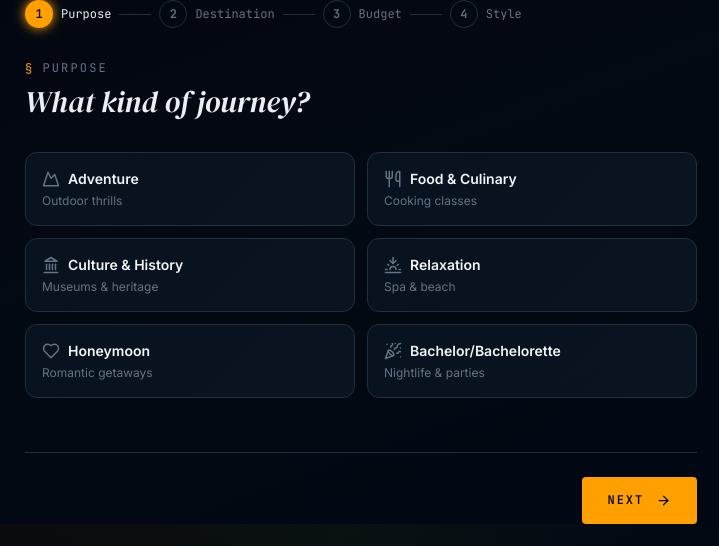
PlanWizard › shows validation errors on step 2 when fields are empty
Click the button "Adventure Outdoor thrills" at (103, 178), box [25, 152, 355, 226]
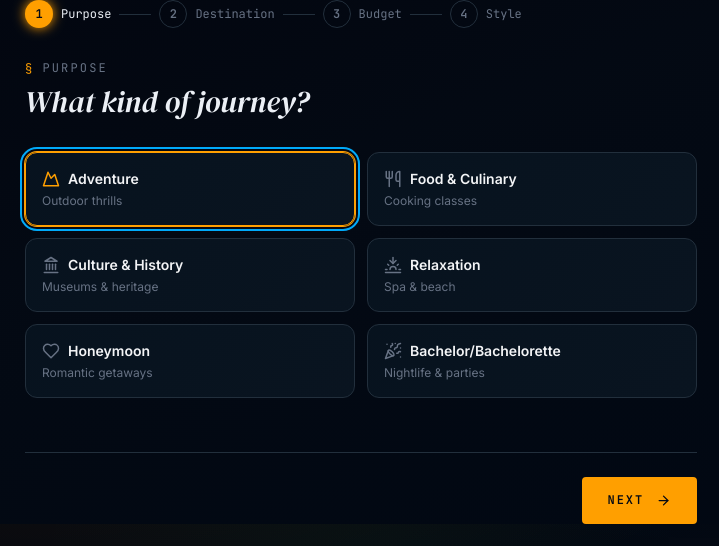
Click the button "Next" at (639, 500), box [582, 477, 697, 524]
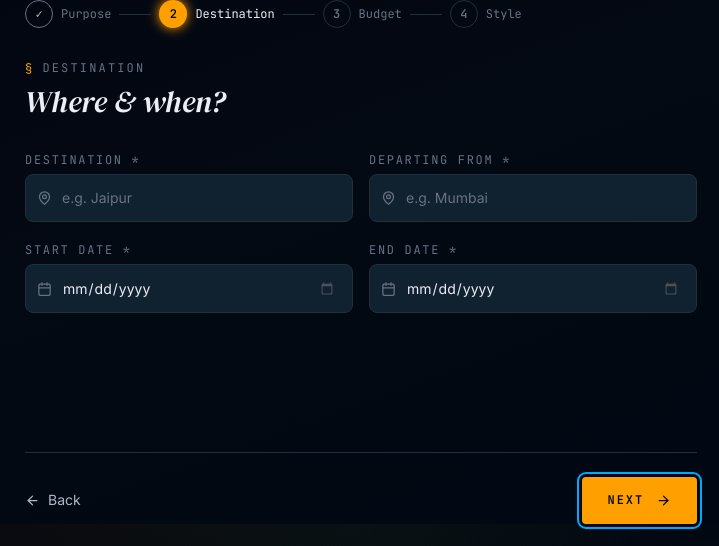
Click the button "Next" at (639, 500), box [582, 477, 697, 524]
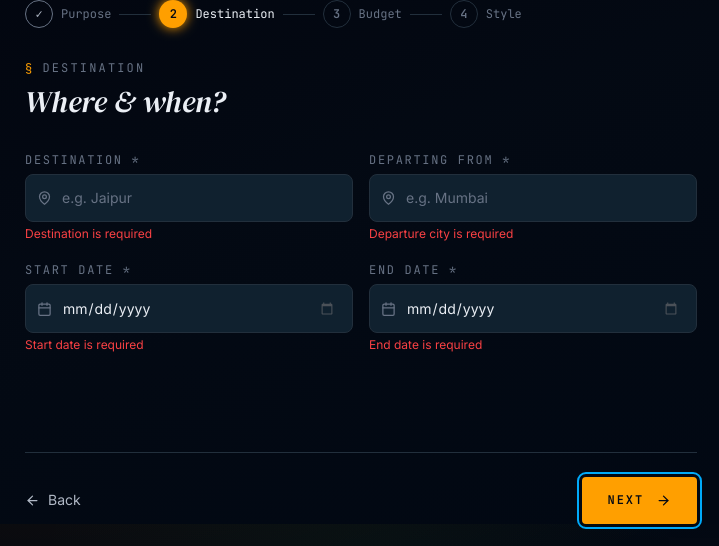
Result: the text "Destination is required" is shown at [25, 226, 152, 241]
Result: the text "Departure city is required" is shown at [369, 226, 513, 241]
Result: the text "Start date is required" is shown at [25, 337, 144, 352]
